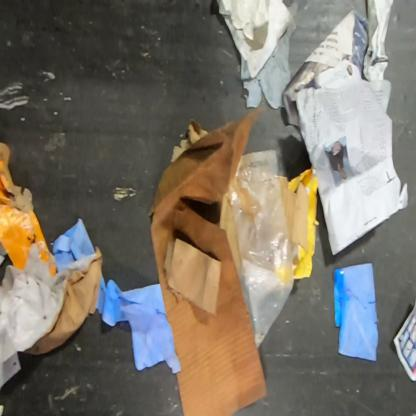cardboard: (149, 105, 268, 415), (0, 244, 104, 355), (0, 142, 57, 270), (278, 175, 310, 252)
soft_plastic: (228, 149, 296, 349)
